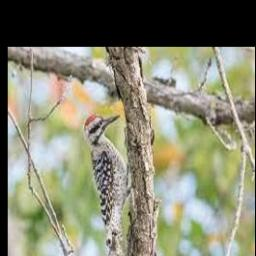Woodpecker: (84, 114, 130, 256)
